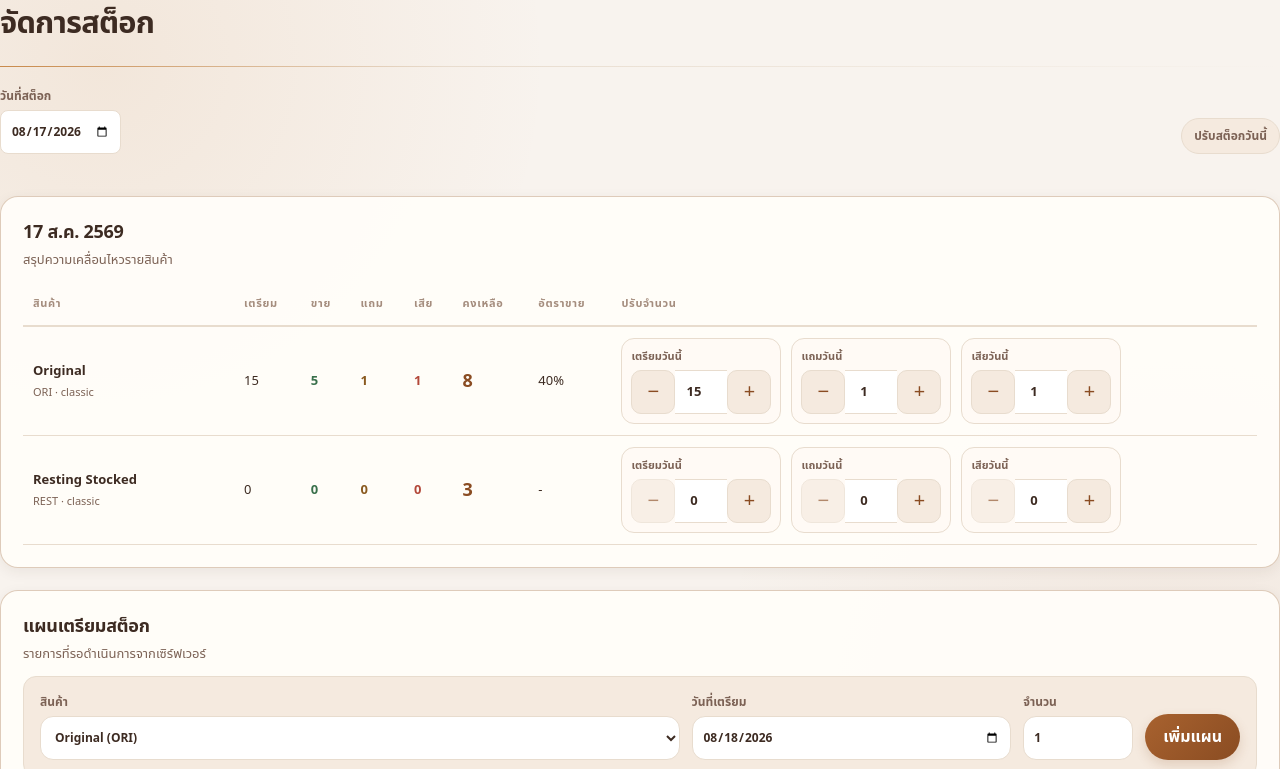
Test: StockPage › submits เพิ่มแถมวันนี้ Original once and updates the row from the confirmed stock
Click the button named "เพิ่มแถมวันนี้ Original" at (919, 392), box [897,370,941,414]
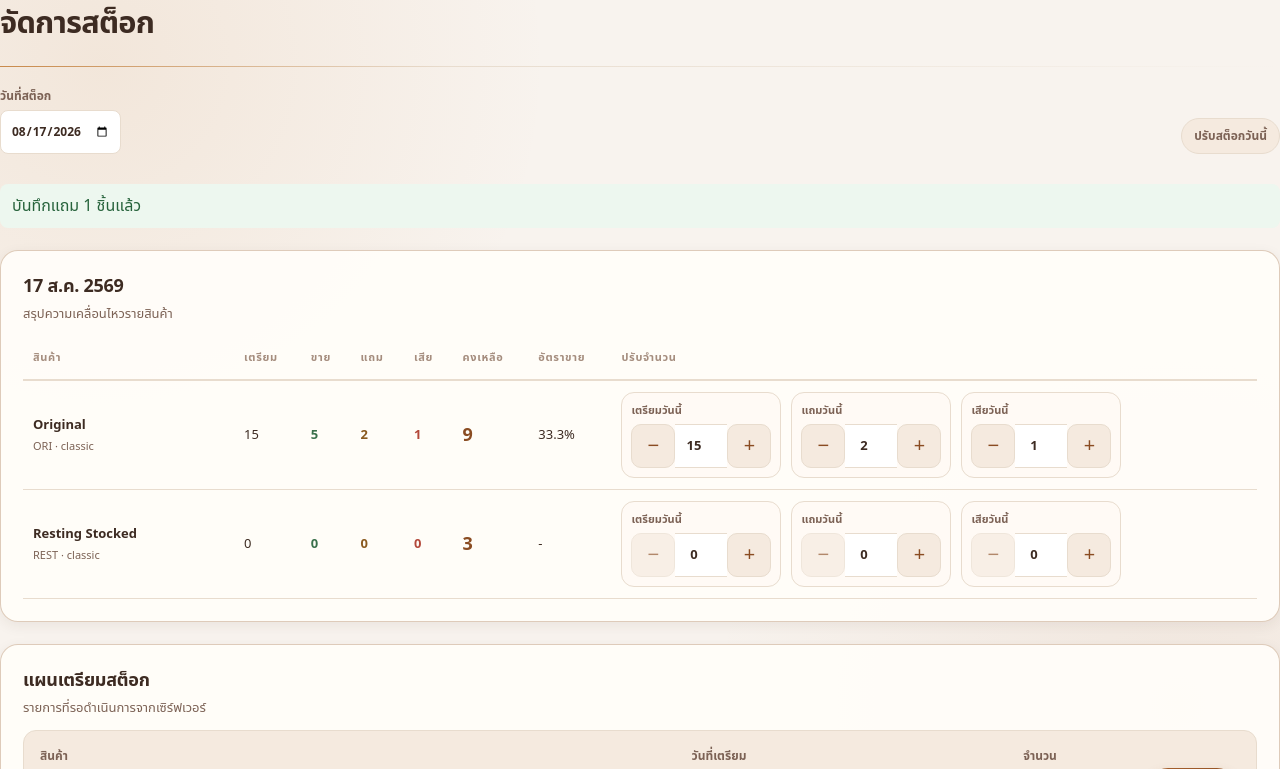
Check: the message shows "1 ชิ้นแล้ว", box [12,194,141,218]
Check: the cell with class "stock-balance-value" reads "9", box [462,422,473,448]
